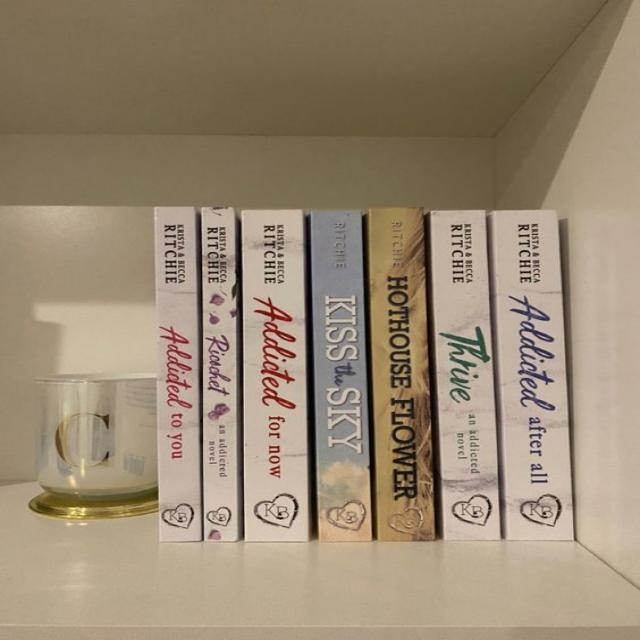book: (490, 211, 574, 540), (427, 210, 499, 540), (242, 210, 310, 541), (368, 208, 435, 540), (308, 211, 372, 541), (155, 207, 200, 541), (201, 208, 241, 541)
candle: (31, 374, 157, 518)
